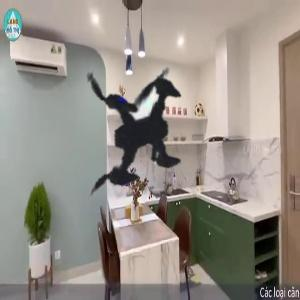drone: (19, 7, 280, 268)
